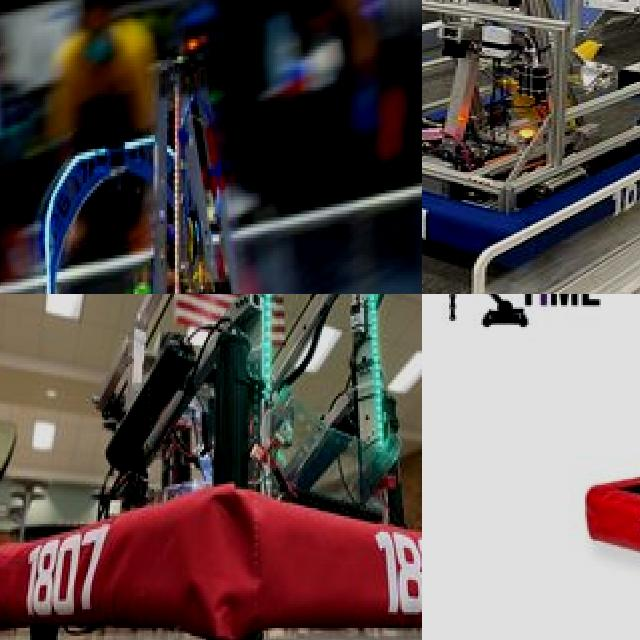FRC-Robots: (0, 294, 422, 640), (80, 30, 343, 294), (422, 0, 640, 269), (540, 294, 640, 596), (0, 83, 71, 294)
